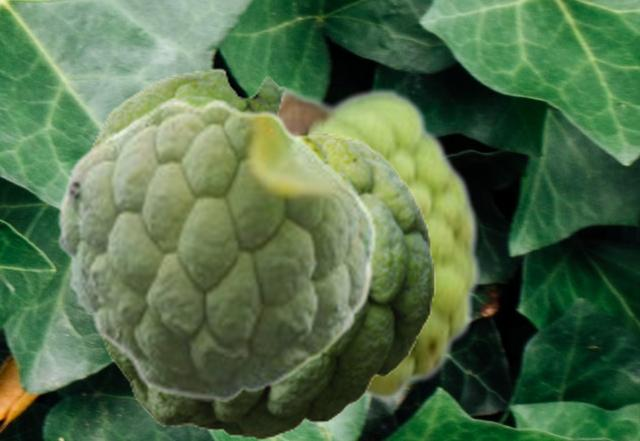atis: (86, 67, 434, 439), (56, 98, 378, 400), (280, 85, 481, 404)
